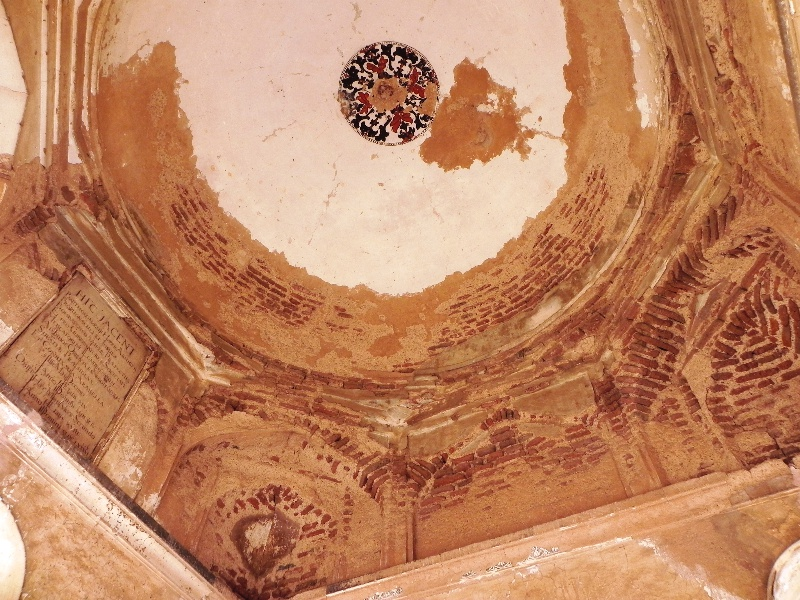Exposed Bricks: (623, 203, 793, 444), (324, 379, 622, 510), (425, 179, 618, 350), (166, 189, 317, 318)
